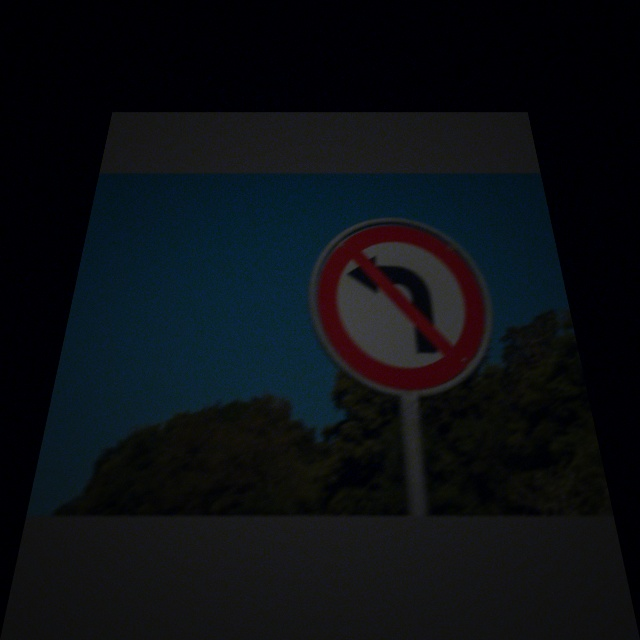Left_Turn_Prohibited: (309, 223, 504, 392)
